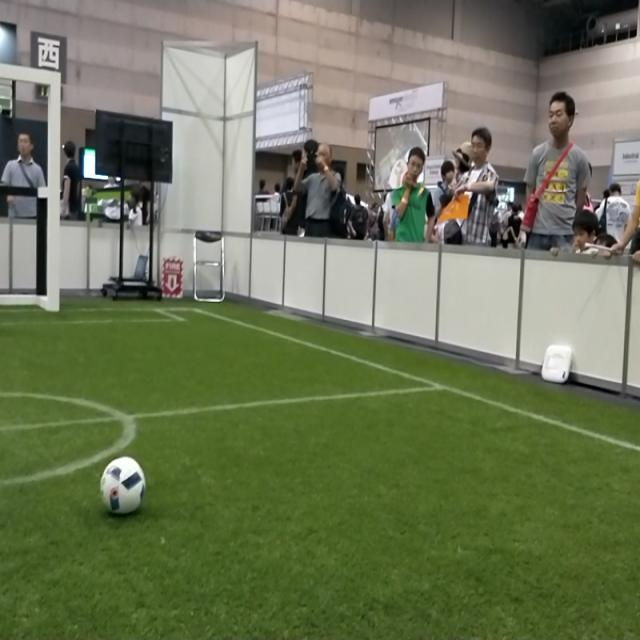ball: (99, 456, 146, 515)
goalpost: (44, 68, 59, 310)
